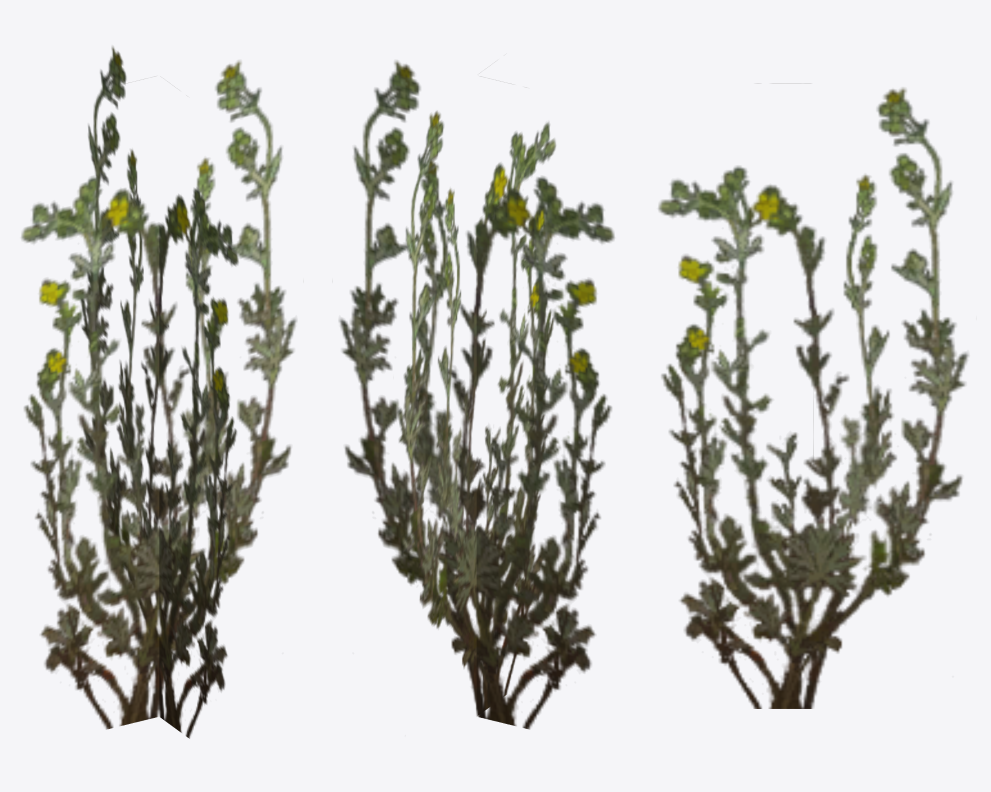
File: grass_s03.glb
3 views of the same model, side by side, from view 1: azimuth 30°, elevation 25°; view 2: azimuth 150°, elevation 25°; view 3: azimuth 270°, elevation 25° (orthographic). The views are drawn at different scales.
Visible parts, largest first — view 1: grass_s03; view 2: grass_s03; view 3: grass_s03.
Part boxes in pixels (left/top/right/bottom): grass_s03: left=21, top=46, right=296, bottom=738; grass_s03: left=339, top=61, right=614, bottom=729; grass_s03: left=658, top=88, right=968, bottom=708.
Bounding box in the file's own units: 0.7091 × 1.5 × 0.7091.
Materials: 1 (1 with a texture image).
